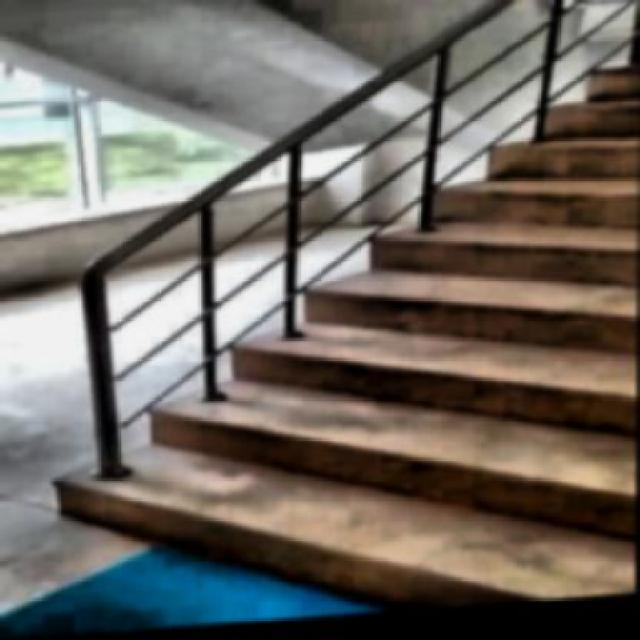stair: (40, 15, 637, 636)
